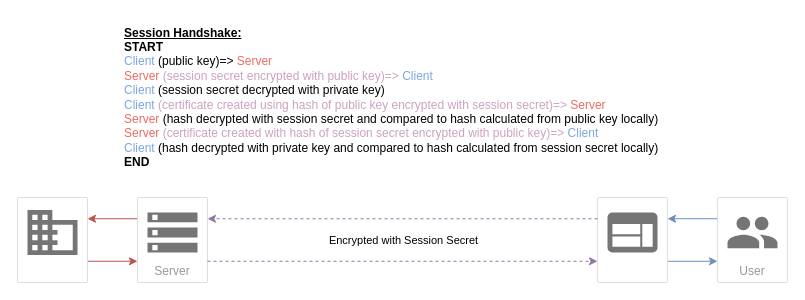
This 805x300 diagram has some shape labels left out. Each missing label, with the centre of its shape:
Application: (x=632, y=239)
Database: (x=52, y=239)
